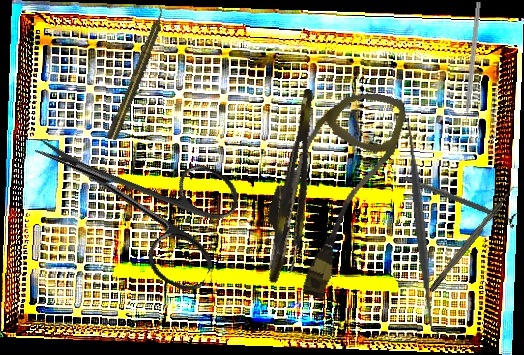Cannula: (248, 72, 411, 308)
Chopper: (455, 1, 482, 129)
Fixation Ring: (401, 169, 520, 230)
Handpiece: (104, 4, 171, 144)
Hook Surgical: (427, 184, 518, 293)
Iris Scissors: (8, 93, 252, 298)
Spatula Surgical: (397, 116, 445, 336)
Tissue Forceps: (267, 88, 330, 274)
